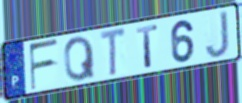6: (169, 18, 196, 64)
F: (28, 37, 60, 93)
J: (204, 9, 231, 60)
Q: (62, 34, 97, 83)
T: (99, 26, 128, 79), (135, 23, 160, 69)
